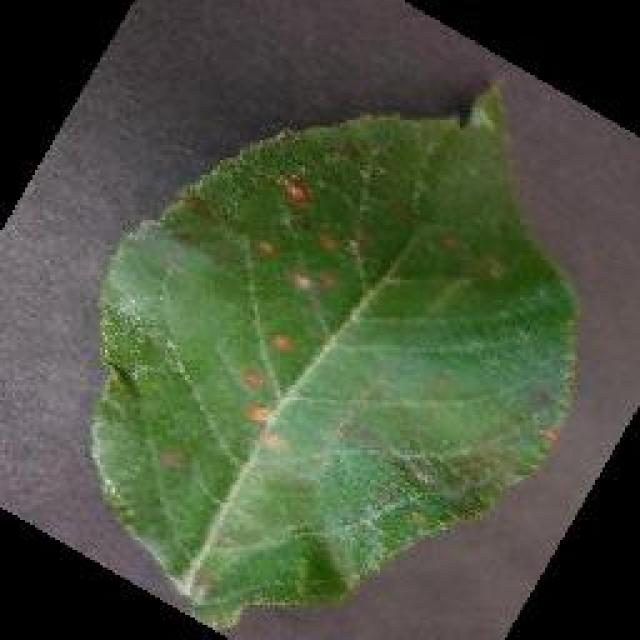apple healthy: (85, 78, 583, 630)
